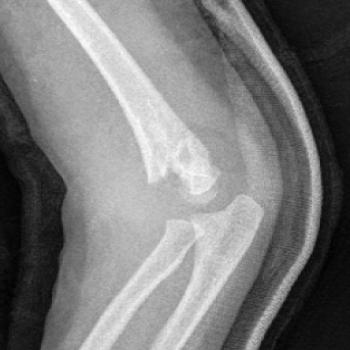Fracture: (141, 170, 208, 232)
